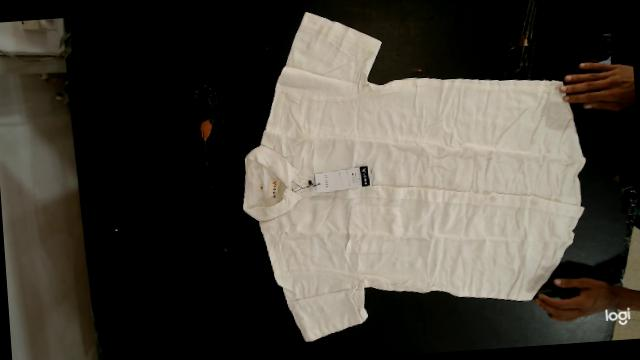new-garment: (243, 12, 585, 340)
